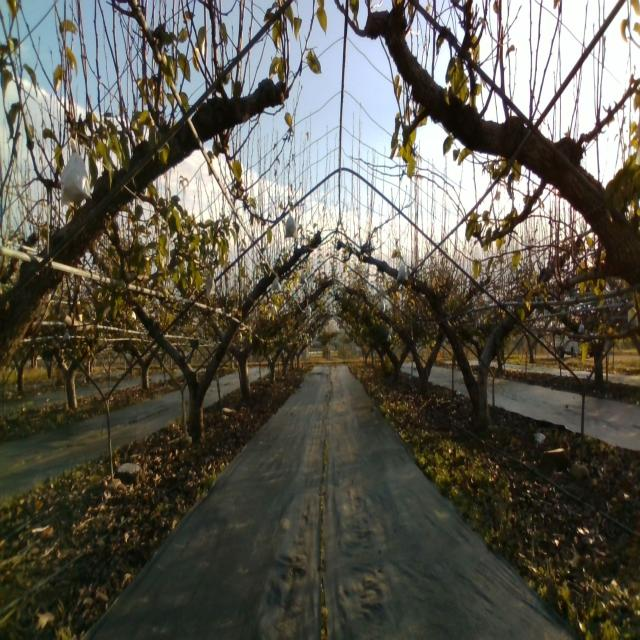pearbags: (61, 137, 92, 208), (284, 209, 300, 239), (396, 262, 408, 282)
